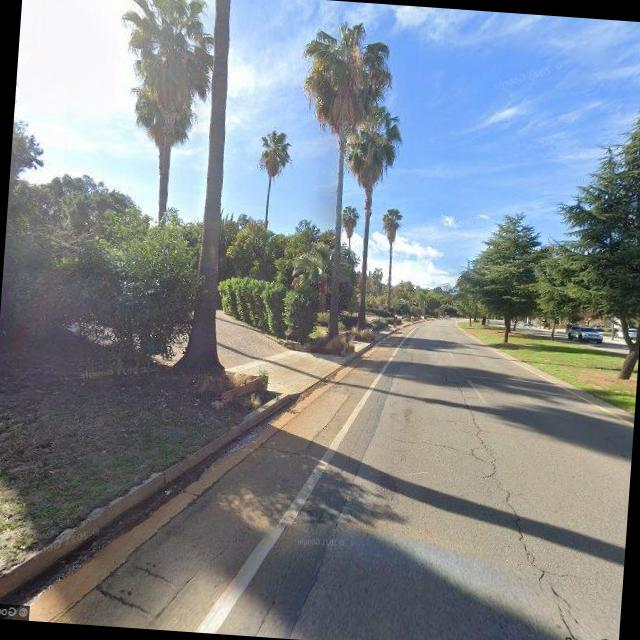crack: (434, 381, 601, 640), (386, 432, 480, 457)
